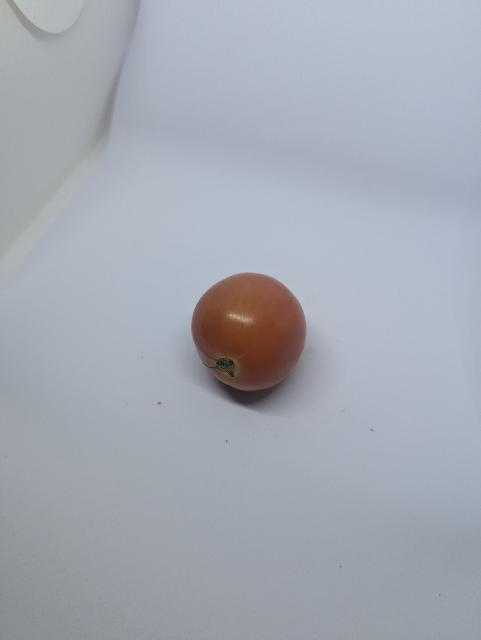red: (159, 267, 363, 418)
